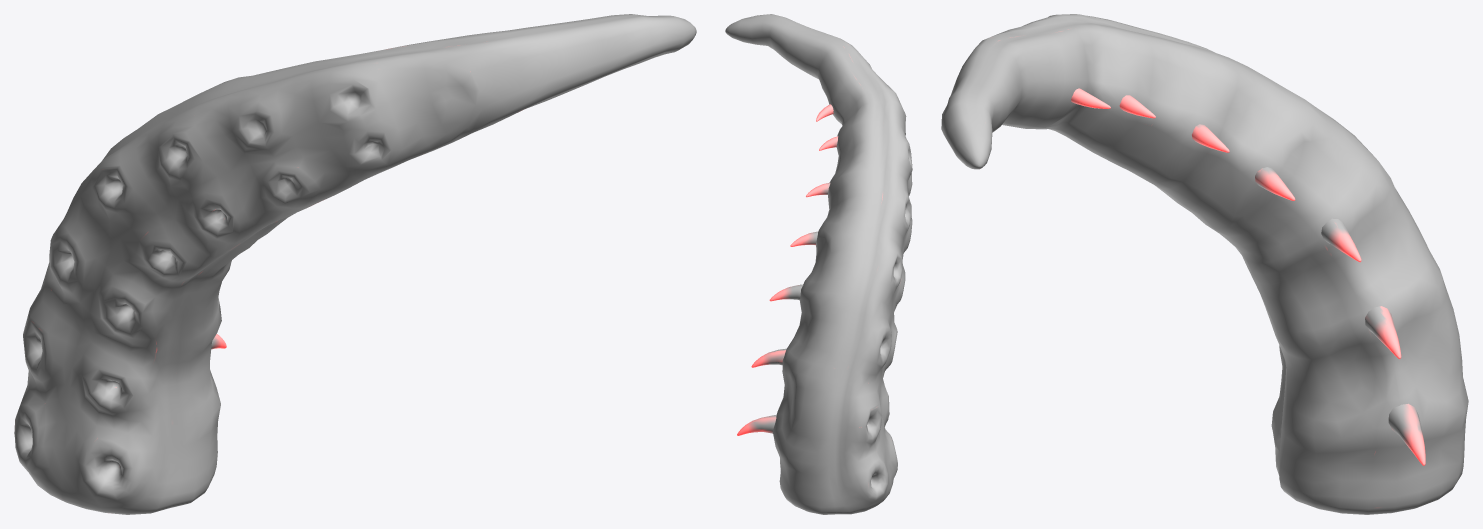
The model's file is wallTentacle_2.fbx.
3 renders of one model, left to right at view 1: azimuth 30°, elevation 25°; view 2: azimuth 150°, elevation 25°; view 3: azimuth 270°, elevation 25°, orthographic. The views are drawn at different scales.
Parts seen in each view (by area): view 1: wallTentacle.2; view 2: wallTentacle.2; view 3: wallTentacle.2.
Part boxes in pixels (bbox=[...]): wallTentacle.2: bbox=[14, 14, 696, 514]; wallTentacle.2: bbox=[725, 14, 912, 514]; wallTentacle.2: bbox=[941, 14, 1468, 514].
Bounding box in the file's own units: 384 × 429 × 384.
